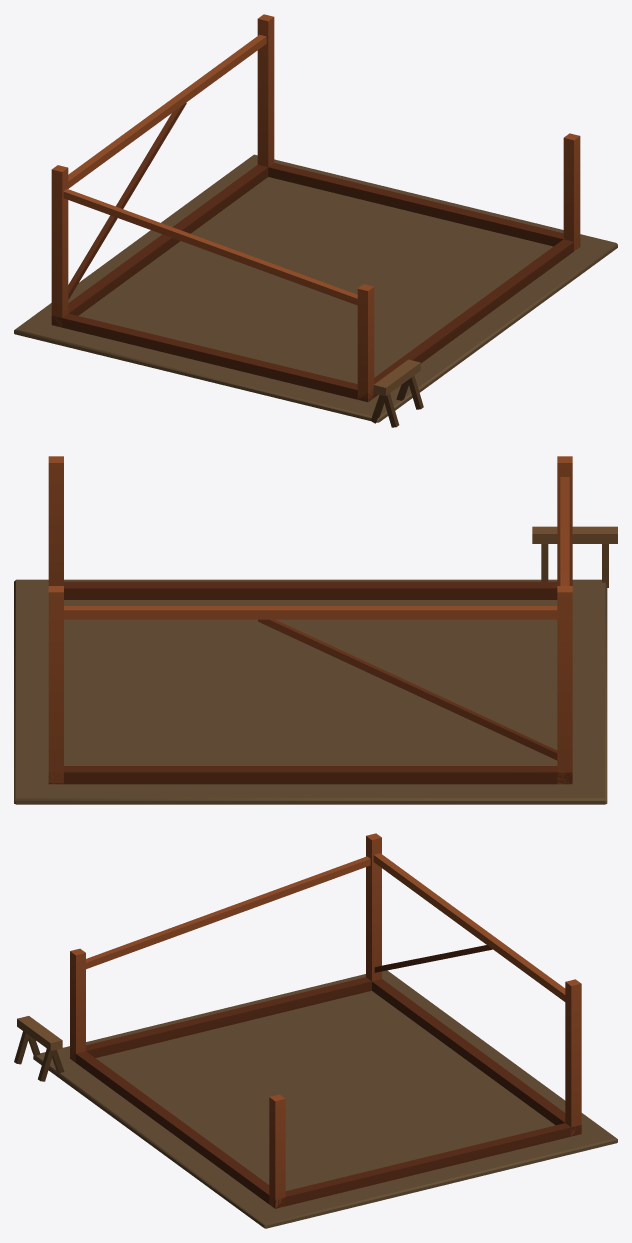
File: site_large.glb
The picture shows the model from 3 angles, top to bottom: view 1: azimuth 30°, elevation 25°; view 2: azimuth 150°, elevation 25°; view 3: azimuth 270°, elevation 25°; orthographic projection. The views are drawn at different scales.
Visible parts, largest first — view 1: site_large; view 2: site_large; view 3: site_large.
Boxes of the visible parts, box(x1,y1,x2,y2) form: site_large: box(14, 14, 617, 427); site_large: box(14, 456, 617, 804); site_large: box(14, 833, 617, 1228).
Size of the model in its own units: 1.53 by 0.4342 by 1.53.
